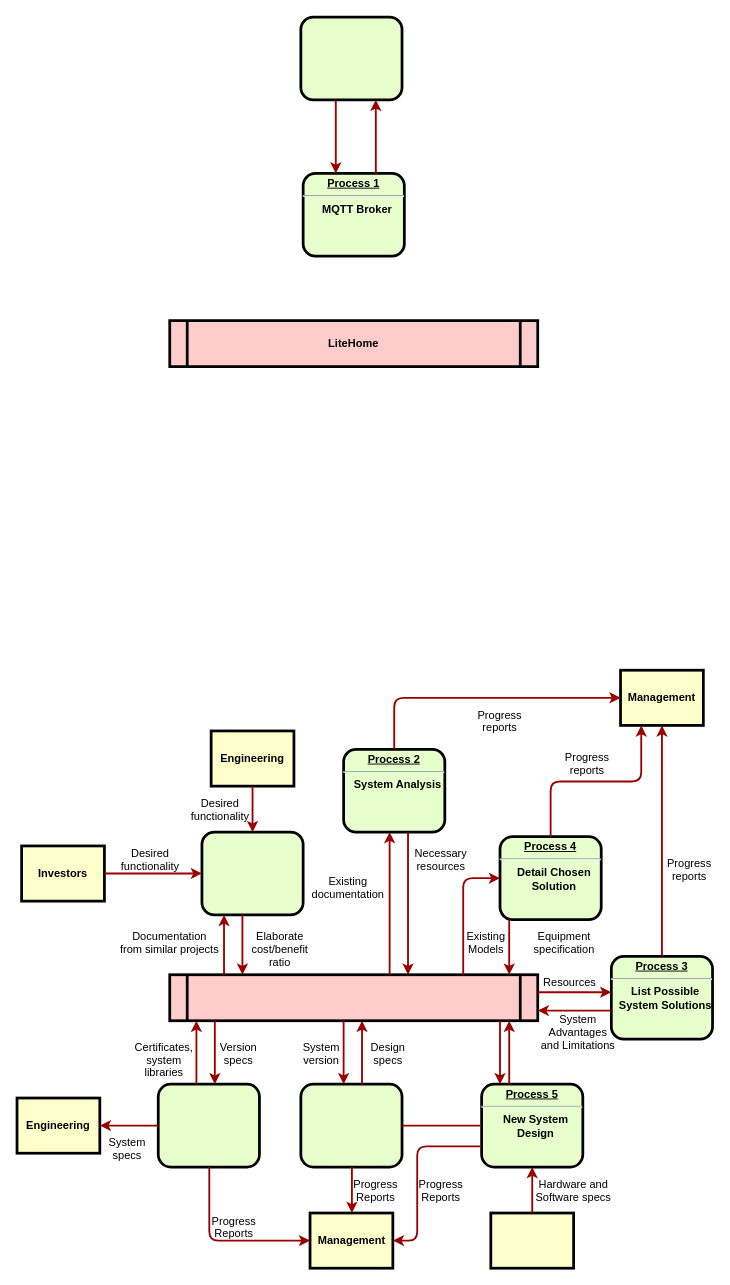
This 730x1285 diagram has some shape labels left out. The centre of each missing label's shape, as x and y in pixels:
"ON-DEMAND SYSTEM DEVELOPMENT" belongs at point (353, 997).
"Process 1 System Study Preparation" belongs at point (252, 873).
"Process 2 Home Assistant" belongs at point (351, 58).
"Process 6 New System Construction" belongs at point (208, 1125).
"Process 7 New System Startup and Testing" belongs at point (351, 1125).
"Vendors" belongs at point (532, 1240).
